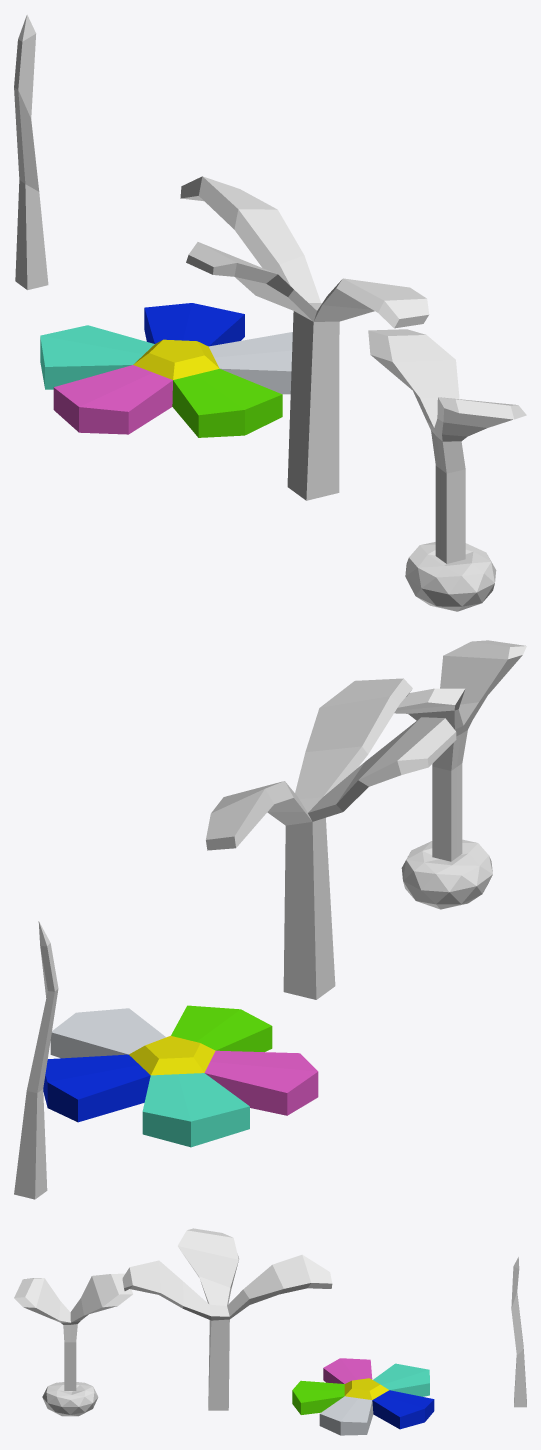
Rendered from plant.fbx.
3 renders of one model, top to bottom at view 1: azimuth 30°, elevation 25°; view 2: azimuth 150°, elevation 25°; view 3: azimuth 270°, elevation 25°, orthographic. The views are drawn at different scales.
Parts seen in each view (by area): view 1: Cube.001, Cube, Cylinder.003, Cylinder.002, Cube.002, Cylinder.004, Icosphere, Cylinder.005, Cylinder.001, Cylinder; view 2: Cube.001, Cube, Cylinder.004, Cylinder.005, Cylinder.003, Cube.002, Icosphere, Cylinder.001, Cylinder.002, Cylinder; view 3: Cube.001, Cube, Cylinder.005, Cylinder.001, Icosphere, Cylinder.002, Cylinder.004, Cube.002, Cylinder.003, Cylinder.
Part boxes in pixels (<box>): Cube.001: <box>180,176,429,500</box>; Cube: <box>368,329,526,563</box>; Cylinder.003: <box>53,365,172,434</box>; Cylinder.002: <box>172,368,282,437</box>; Cube.002: <box>14,14,48,290</box>; Cylinder.004: <box>40,325,154,389</box>; Icosphere: <box>405,542,496,611</box>; Cylinder.005: <box>144,303,244,346</box>; Cylinder.001: <box>208,332,292,394</box>; Cylinder: <box>133,339,219,379</box>; Cube.001: <box>206,678,456,999</box>; Cube: <box>394,640,526,861</box>; Cylinder.004: <box>142,1073,249,1147</box>; Cylinder.005: <box>43,1054,150,1122</box>; Cylinder.003: <box>204,1050,318,1115</box>; Cube.002: <box>14,921,58,1199</box>; Icosphere: <box>401,839,492,909</box>; Cylinder.001: <box>50,1008,165,1058</box>; Cylinder.002: <box>171,1005,272,1051</box>; Cylinder: <box>129,1035,215,1075</box>; Cube.001: <box>122,1228,332,1410</box>; Cube: <box>14,1273,132,1390</box>; Cylinder.005: <box>372,1390,434,1429</box>; Cylinder.001: <box>319,1396,373,1435</box>; Icosphere: <box>42,1382,98,1416</box>; Cylinder.002: <box>292,1380,344,1414</box>; Cylinder.004: <box>373,1363,429,1396</box>; Cube.002: <box>511,1257,526,1407</box>; Cylinder.003: <box>323,1358,372,1383</box>; Cylinder: <box>344,1378,388,1399</box>.
Size of the model in its own units: 541 by 613 by 1824.
